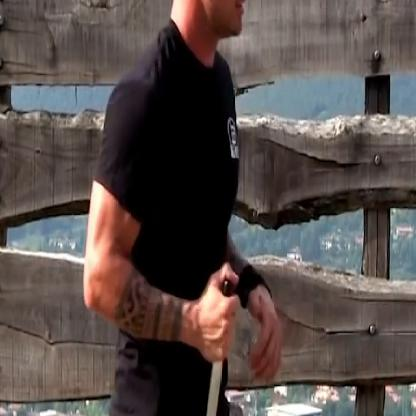knife: (197, 258, 242, 415)
